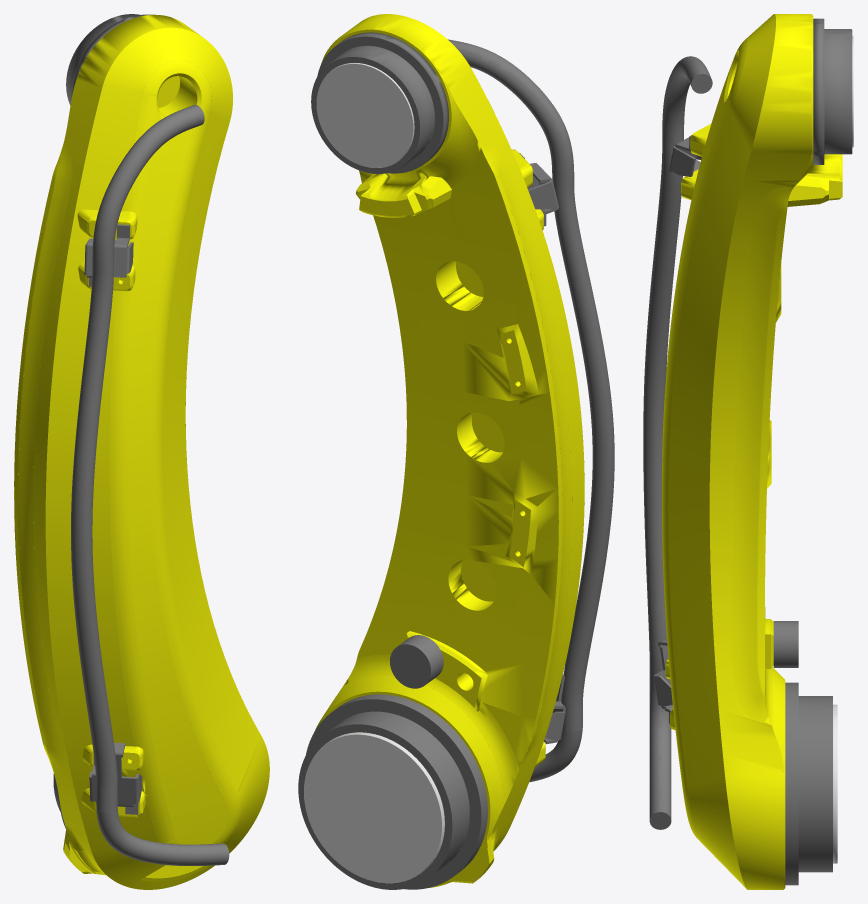
The picture shows the model from 3 angles, left to right: view 1: azimuth 30°, elevation 25°; view 2: azimuth 150°, elevation 25°; view 3: azimuth 270°, elevation 25°; orthographic projection. The views are drawn at different scales.
Parts seen in each view (by area): view 1: Mesh_0; view 2: Mesh_0; view 3: Mesh_0.
Boxes of the visible parts, x1,y1,x2,y2 form: Mesh_0: [14, 14, 269, 889]; Mesh_0: [298, 14, 614, 889]; Mesh_0: [643, 14, 853, 889].
Bounding box in the file's own units: 0.3055 × 0.2314 × 1.04.
